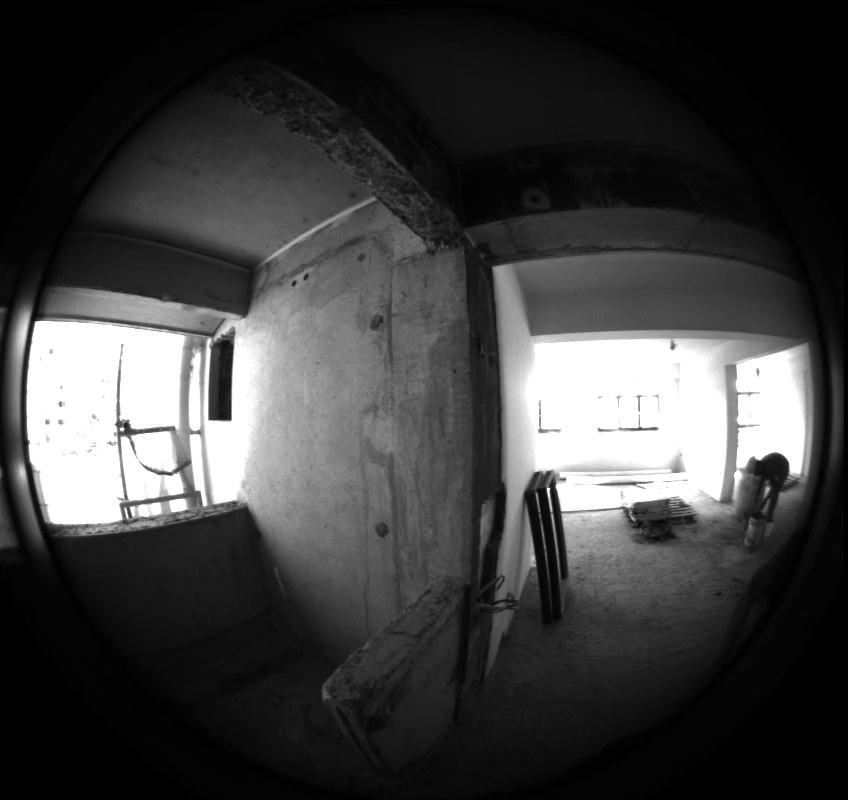Building materials: (70, 42, 694, 539)
Ceiling: (77, 9, 754, 264), (319, 122, 810, 334), (75, 90, 371, 266)
Floor: (400, 309, 802, 792)
Person: (57, 94, 789, 546)
Wall: (0, 0, 470, 661), (50, 265, 535, 670), (49, 198, 297, 698)
Windows: (42, 153, 567, 623), (25, 87, 233, 419)
